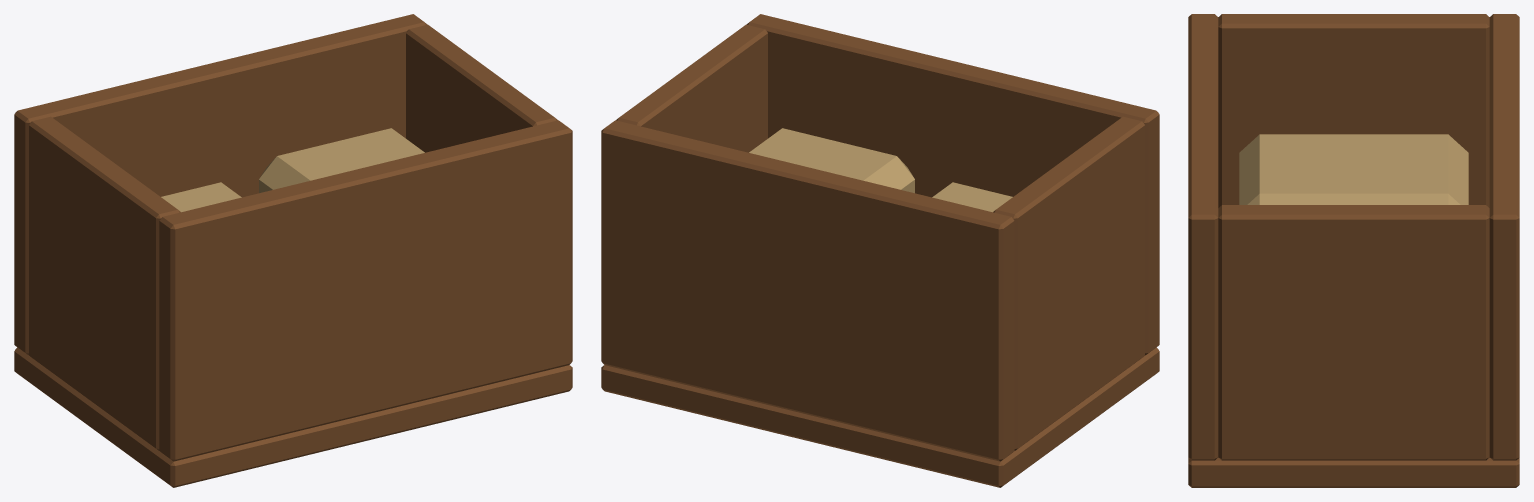
File: Prop_Ash_SeedCache_LOD1.glb
3 renders of one model, left to right at view 1: azimuth 30°, elevation 25°; view 2: azimuth 150°, elevation 25°; view 3: azimuth 270°, elevation 25°, orthographic. The views are drawn at different scales.
Parts seen in each view (by area): view 1: Prop_Ash_SeedCache; view 2: Prop_Ash_SeedCache; view 3: Prop_Ash_SeedCache.
Boxes of the visible parts, left/top/right/bottom form: Prop_Ash_SeedCache: left=14, top=14, right=572, bottom=487; Prop_Ash_SeedCache: left=601, top=14, right=1159, bottom=487; Prop_Ash_SeedCache: left=1188, top=14, right=1519, bottom=487.
Bounding box in the file's own units: 0.8 × 0.5 × 0.55.
